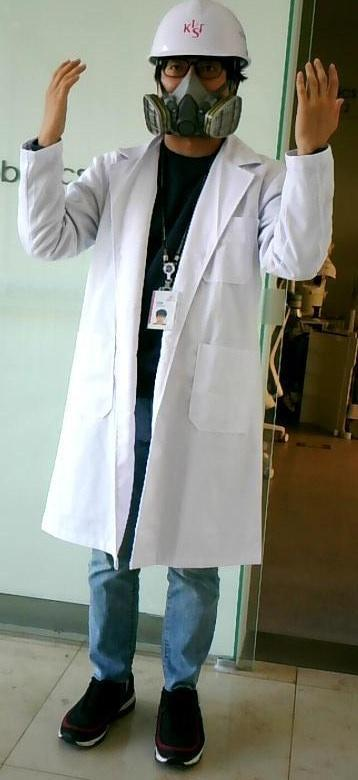lab_coat: (31, 172, 327, 545)
